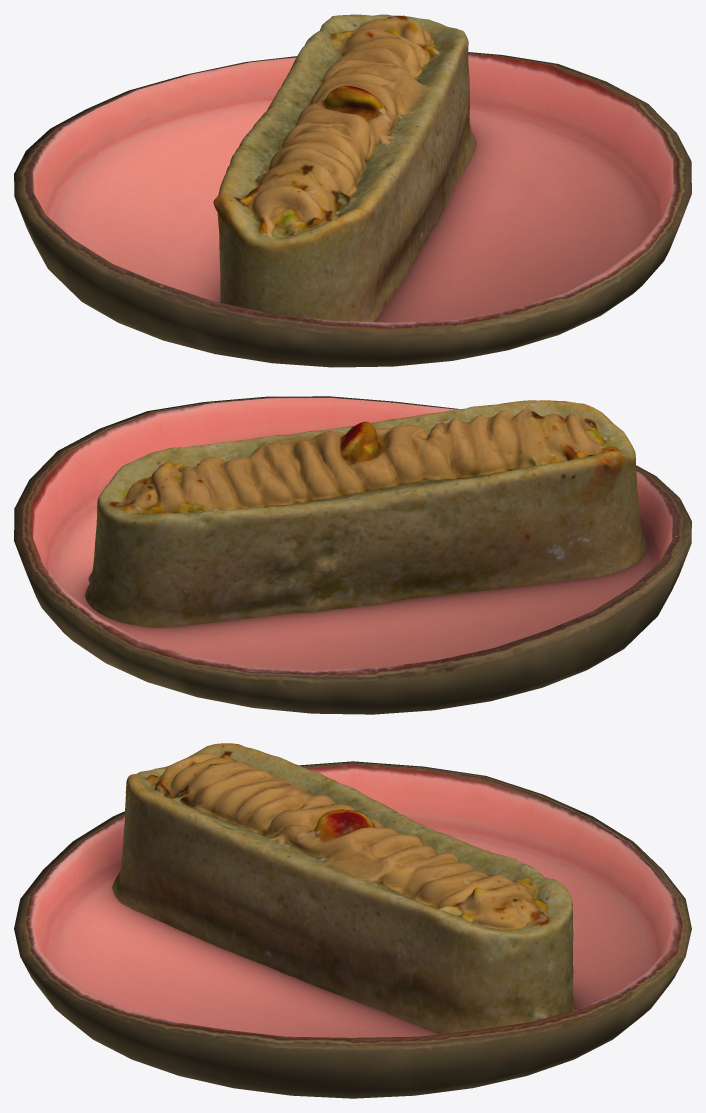
Rendered from 03_Financier_pistache.glb.
The picture shows the model from 3 angles, top to bottom: view 1: azimuth 30°, elevation 25°; view 2: azimuth 150°, elevation 25°; view 3: azimuth 270°, elevation 25°; orthographic projection.
Parts seen in each view (by area): view 1: Plate, Principal; view 2: Principal, Plate; view 3: Plate, Principal.
Part boxes in pixels (box(x1,y1,x2,y2)): Plate: box(14, 52, 691, 367); Principal: box(213, 14, 476, 322); Principal: box(85, 400, 646, 627); Plate: box(14, 396, 691, 714); Plate: box(14, 761, 691, 1098); Principal: box(112, 743, 574, 1034).
Size of the model in its own units: 0.4006 by 0.1016 by 0.3971.
Materials: 2 (2 with a texture image).
